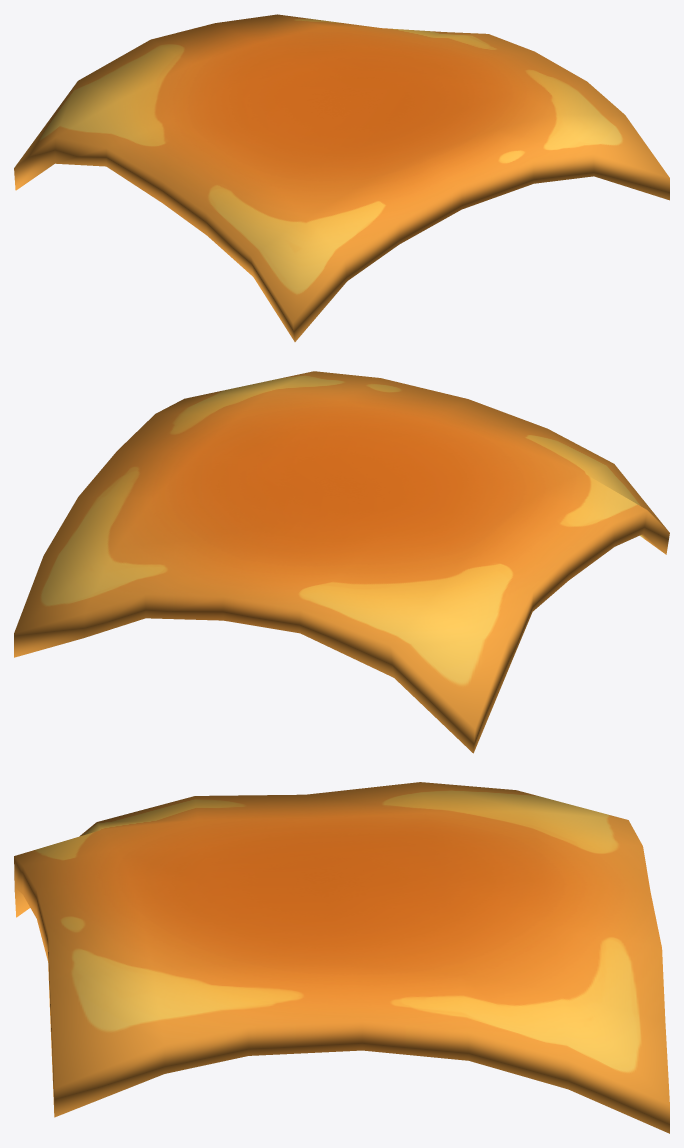
The model's file is CheeseMelt.fbx.
3 views of the same model, one above another, from view 1: azimuth 30°, elevation 25°; view 2: azimuth 150°, elevation 25°; view 3: azimuth 270°, elevation 25° (orthographic). The views are drawn at different scales.
Parts seen in each view (by area): view 1: CheeseMelt; view 2: CheeseMelt; view 3: CheeseMelt.
Part boxes in pixels (left/top/right/bottom): CheeseMelt: left=14, top=14, right=669, bottom=341; CheeseMelt: left=14, top=371, right=669, bottom=753; CheeseMelt: left=14, top=782, right=669, bottom=1133.
Bounding box in the file's own units: 63.94 × 16.54 × 63.29.
